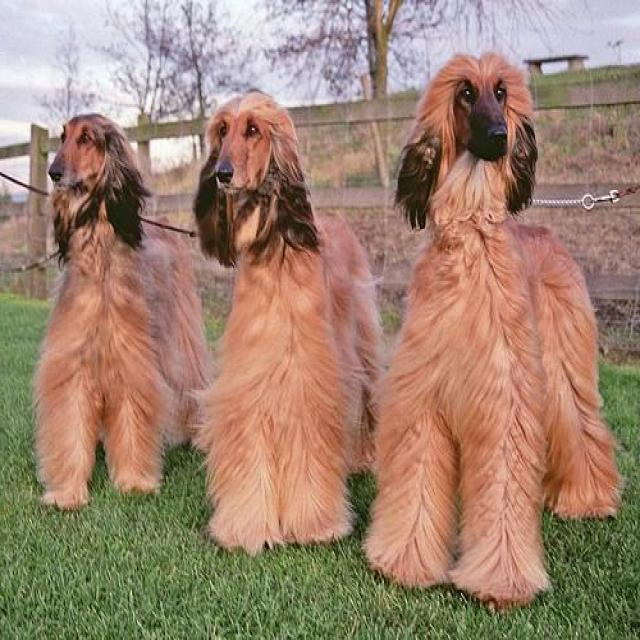afghan_hound: (360, 49, 624, 610), (186, 90, 390, 554), (32, 112, 214, 512)
